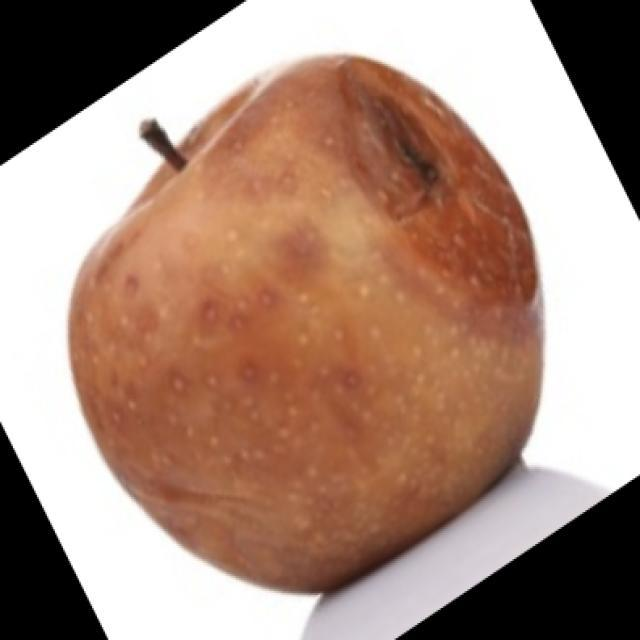Rotten: (65, 45, 537, 600)
